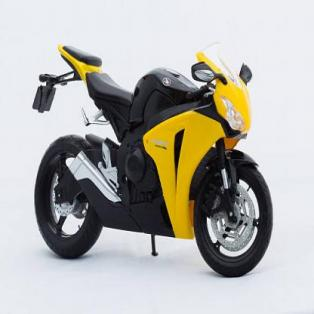Motocicleta: (28, 37, 276, 287)
